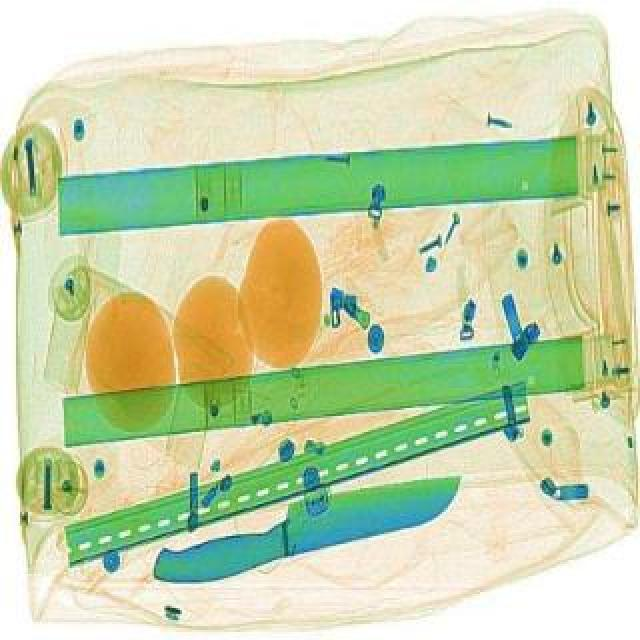knife: (140, 454, 472, 594)
